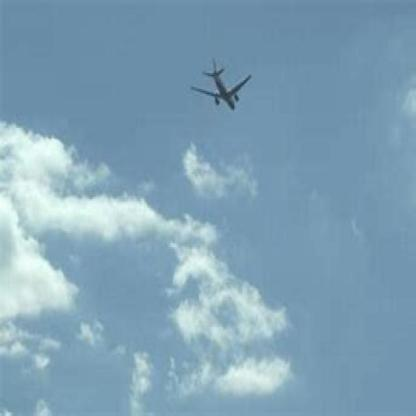plane: (187, 51, 260, 124)
